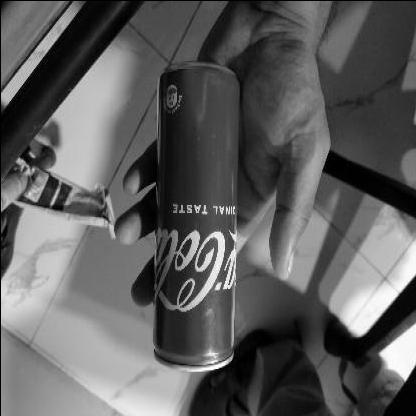alumunium_can: (151, 60, 239, 372)
